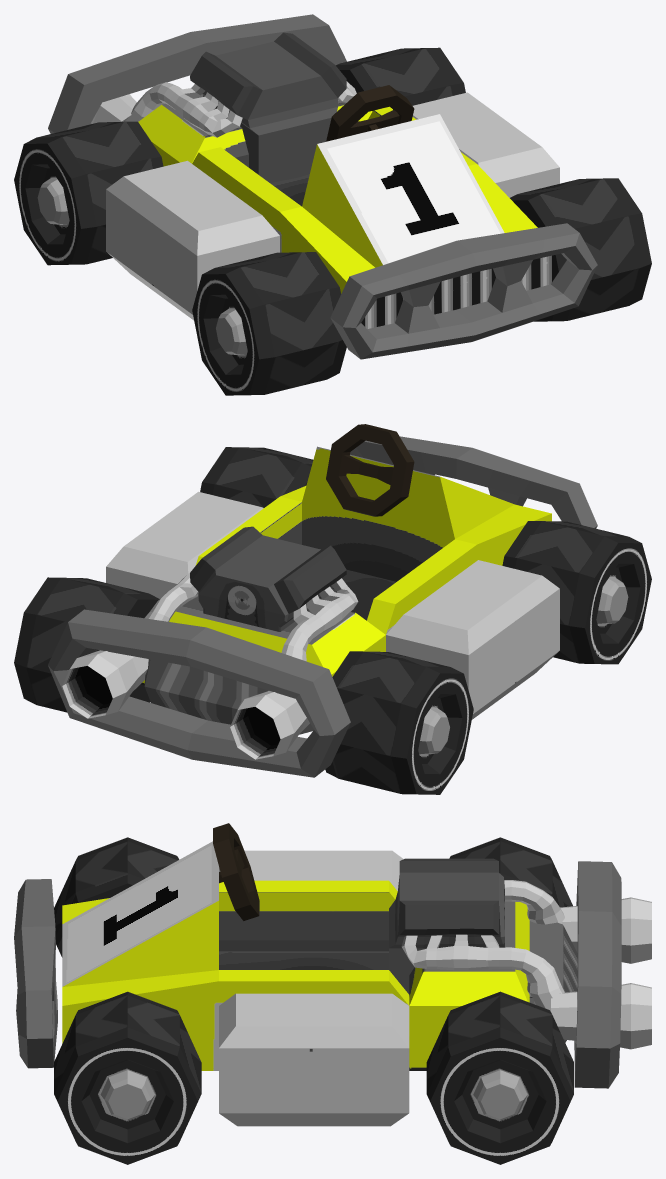
File: kart.fbx
3 renders of one model, top to bottom at view 1: azimuth 30°, elevation 25°; view 2: azimuth 150°, elevation 25°; view 3: azimuth 270°, elevation 25°, orthographic. The views are drawn at different scales.
Visible parts, largest first — view 1: Cube, Cube.002, Cylinder.003, Cube.003, Cylinder.002, Cylinder, Cube.001, Cylinder.001, Cylinder.006, Cylinder.005; view 2: Cube, Cube.001, Cylinder.002, Cube.003, Cylinder.003, Cylinder.001, Cube.002, Cylinder.006, Cylinder, Cylinder.004, Cylinder.005; view 3: Cube, Cylinder.001, Cylinder, Cube.003, Cube.001, Cube.002, Cylinder.003, Cylinder.002, Cylinder.004, Cylinder.006, Cylinder.005.
Part boxes in pixels (<box>): Cube: <box>106,92,559,328</box>; Cube.002: <box>330,223,597,359</box>; Cylinder.003: <box>192,252,346,395</box>; Cube.003: <box>126,32,356,182</box>; Cylinder.002: <box>14,121,163,265</box>; Cylinder: <box>510,178,651,321</box>; Cube.001: <box>48,14,346,133</box>; Cylinder.001: <box>336,47,465,105</box>; Cylinder.006: <box>326,85,414,141</box>; Cylinder.005: <box>90,94,136,124</box>; Cube: <box>106,446,559,734</box>; Cube.001: <box>48,609,350,777</box>; Cylinder.002: <box>325,651,473,794</box>; Cube.003: <box>144,526,358,661</box>; Cylinder.003: <box>502,521,651,664</box>; Cylinder.001: <box>14,577,159,712</box>; Cube.002: <box>350,436,597,528</box>; Cylinder.006: <box>326,424,414,516</box>; Cylinder: <box>200,447,313,507</box>; Cylinder.004: <box>62,650,148,718</box>; Cylinder.005: <box>230,691,309,759</box>; Cube: <box>62,841,577,1126</box>; Cylinder.001: <box>426,991,573,1164</box>; Cylinder: <box>54,991,201,1164</box>; Cube.003: <box>389,858,564,1011</box>; Cube.001: <box>574,861,621,1088</box>; Cube.002: <box>14,879,57,1068</box>; Cylinder.003: <box>54,837,179,957</box>; Cylinder.002: <box>449,837,572,907</box>; Cylinder.004: <box>551,983,651,1049</box>; Cylinder.006: <box>213,823,259,921</box>; Cylinder.005: <box>560,897,651,963</box>.
Bounding box in the file's own units: 380 × 209 × 510.
